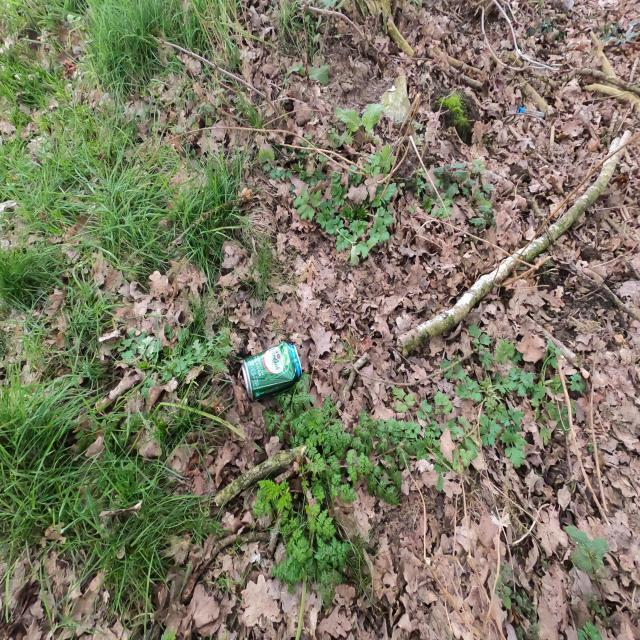Can-Metal: (240, 340, 304, 402)
